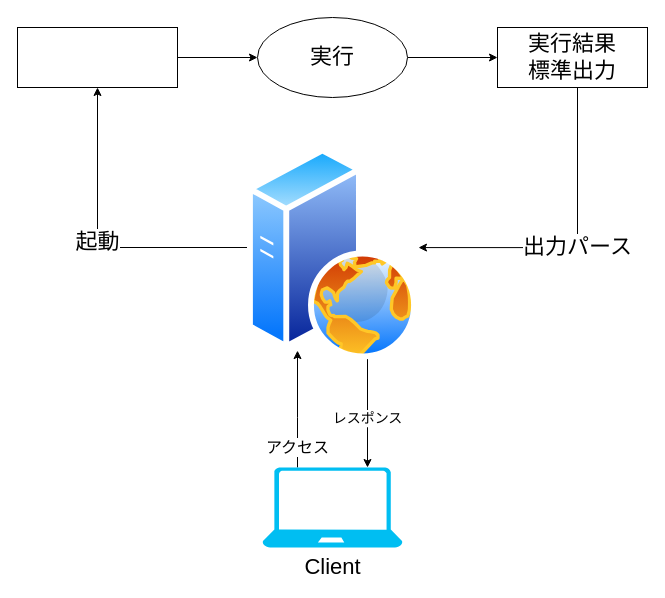
Some shapes in this 665 by 598 pixel diagram are drawn without their labels. Here are the shapes that lost their labels. From the top down, the centre of each, then its label:
At (x=97, y=57): "CGI Program".
At (x=332, y=253): "WebServer".
